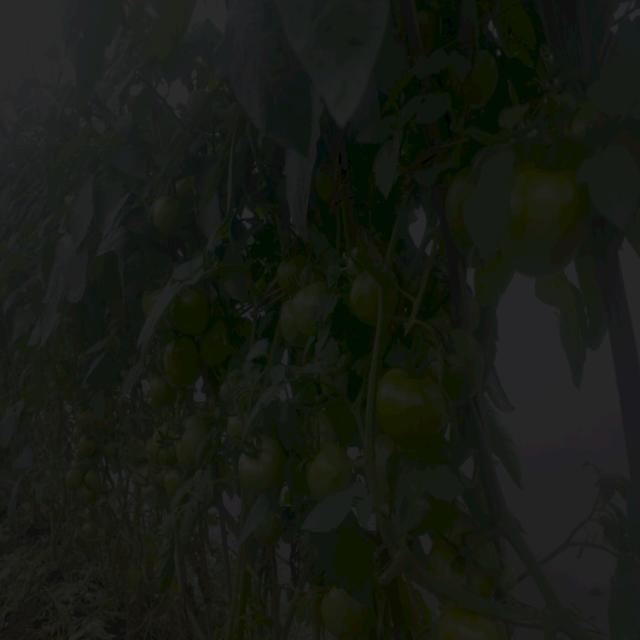tomato: (507, 165, 593, 274), (380, 367, 452, 445), (429, 524, 508, 594), (437, 326, 487, 403), (307, 437, 352, 501), (436, 606, 512, 640), (448, 166, 477, 252), (238, 437, 284, 490), (324, 593, 375, 640), (173, 415, 213, 469), (162, 339, 201, 393), (290, 282, 328, 333), (173, 289, 208, 335), (148, 191, 187, 232), (355, 269, 385, 322), (199, 316, 231, 364), (274, 255, 315, 292), (276, 310, 307, 354), (163, 467, 184, 495), (85, 462, 105, 490), (81, 496, 101, 524), (150, 420, 167, 449), (83, 520, 101, 546), (61, 461, 77, 480), (135, 477, 151, 495), (82, 437, 95, 456)
